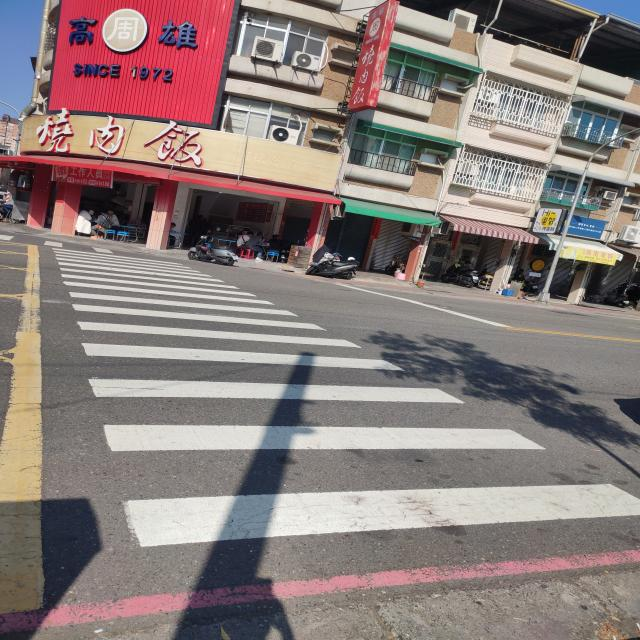zebra crossing: (65, 250, 640, 562)
